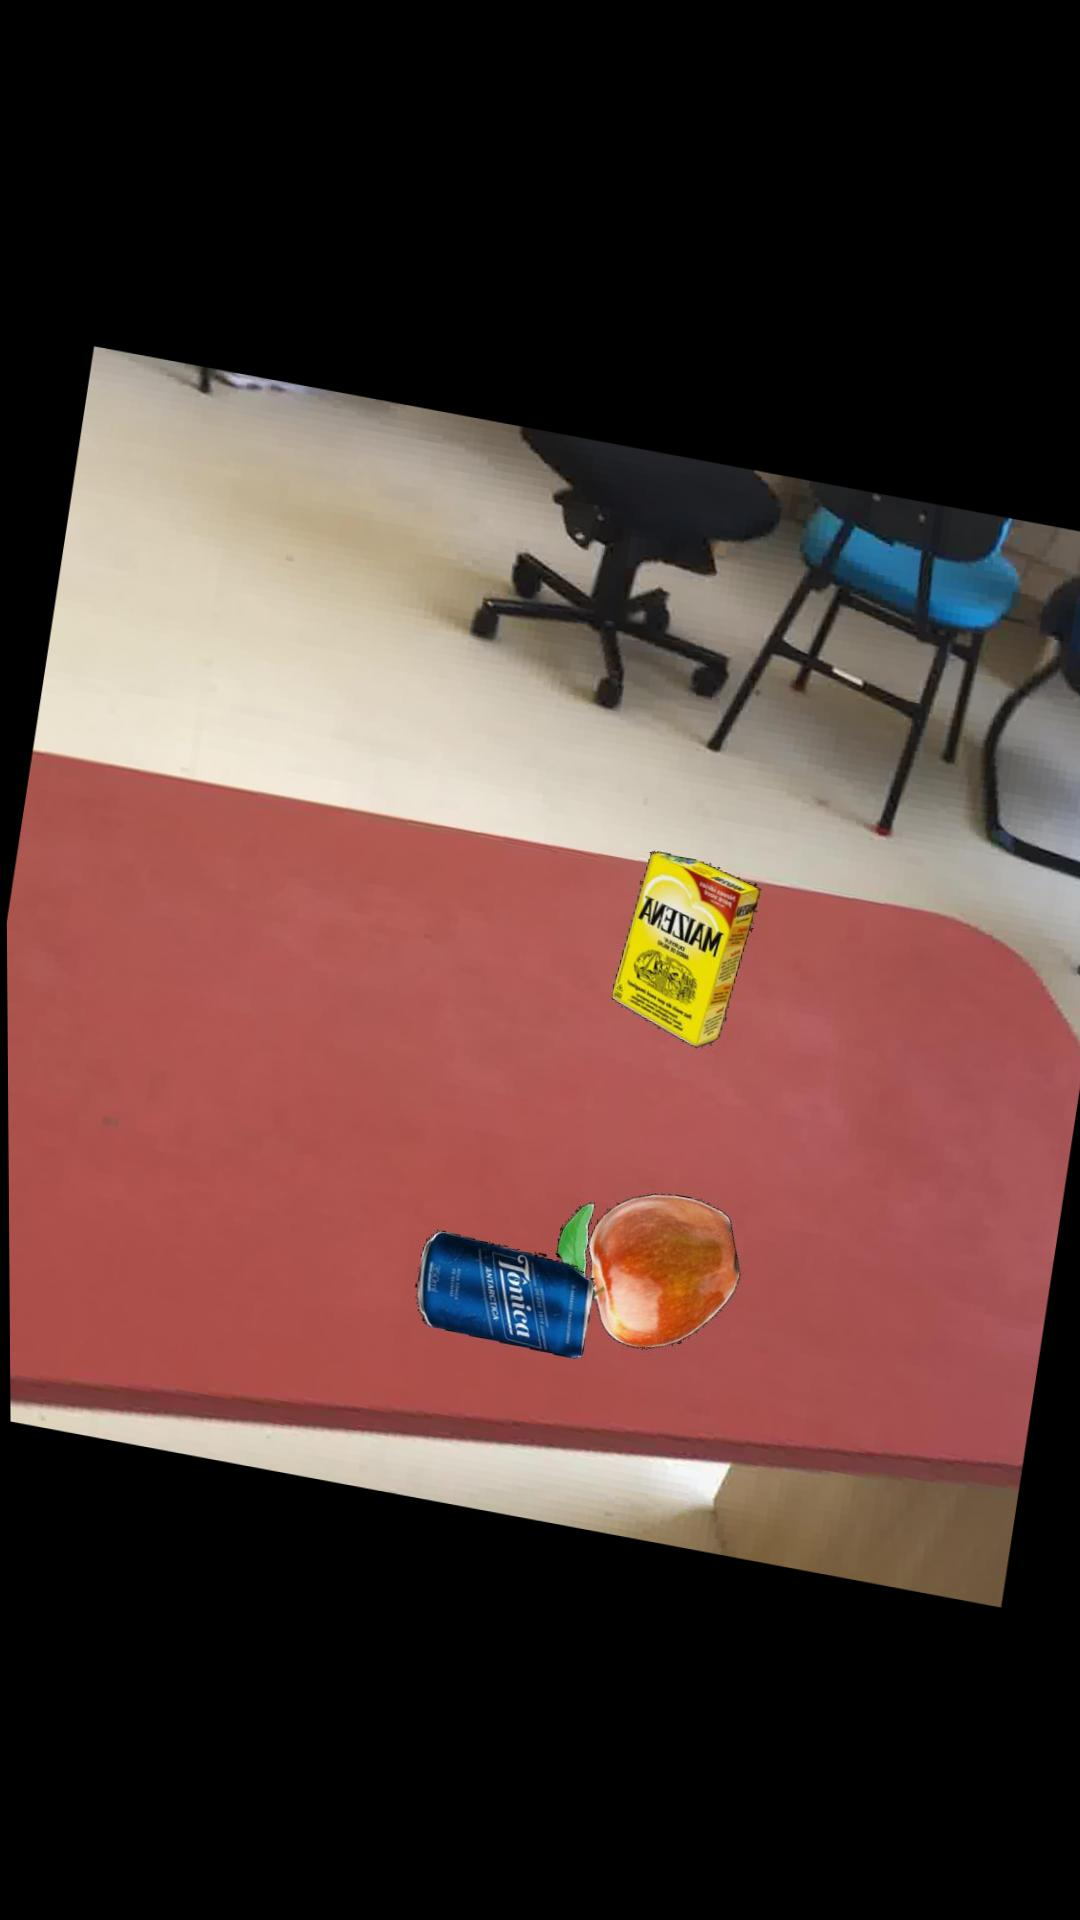apple: (551, 1191, 736, 1344)
tonic: (413, 1228, 591, 1354)
